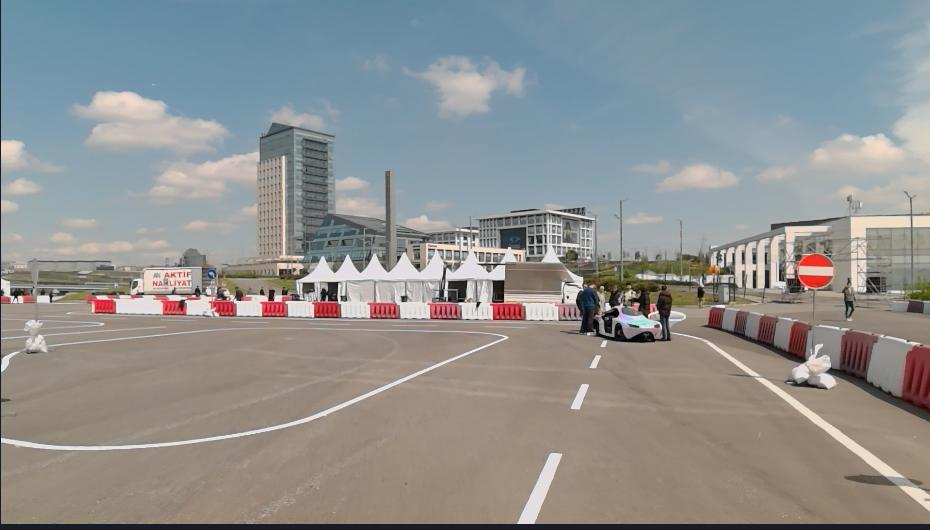nesne: (0, 308, 929, 523), (0, 311, 609, 523), (516, 330, 928, 523), (1, 323, 512, 449), (672, 333, 929, 512), (818, 322, 928, 409), (215, 300, 583, 320), (706, 304, 808, 358), (502, 262, 580, 303), (518, 452, 560, 524), (866, 332, 912, 396), (591, 305, 660, 342), (129, 265, 204, 295), (791, 344, 837, 387), (840, 330, 876, 380), (901, 342, 928, 407), (815, 325, 846, 372), (798, 253, 833, 287), (577, 281, 599, 334), (655, 284, 673, 338), (787, 318, 811, 357), (773, 317, 794, 352), (23, 320, 48, 349), (843, 274, 858, 322), (0, 347, 25, 374), (521, 303, 558, 321), (397, 298, 430, 318), (115, 299, 162, 313), (29, 254, 39, 318), (45, 318, 105, 328), (631, 285, 649, 317), (759, 313, 777, 345), (339, 301, 370, 319), (810, 288, 818, 357), (744, 311, 762, 340), (569, 381, 589, 407), (491, 304, 523, 320), (460, 302, 491, 318), (311, 301, 339, 318), (429, 303, 462, 317), (557, 303, 583, 320), (720, 307, 738, 331), (369, 303, 399, 317), (594, 282, 607, 314), (286, 301, 313, 316), (706, 306, 724, 328), (734, 308, 748, 336), (621, 278, 636, 304), (161, 299, 185, 315), (259, 301, 286, 315), (235, 301, 261, 315), (214, 300, 235, 315), (184, 300, 210, 312), (92, 299, 115, 312), (609, 280, 619, 304), (906, 298, 923, 311), (588, 352, 602, 367), (696, 284, 705, 307), (889, 299, 905, 311), (233, 284, 244, 301), (267, 285, 277, 301), (210, 278, 214, 315), (205, 307, 219, 317), (206, 267, 217, 278), (13, 288, 20, 303), (24, 296, 33, 304), (194, 283, 200, 294), (0, 296, 8, 304)
